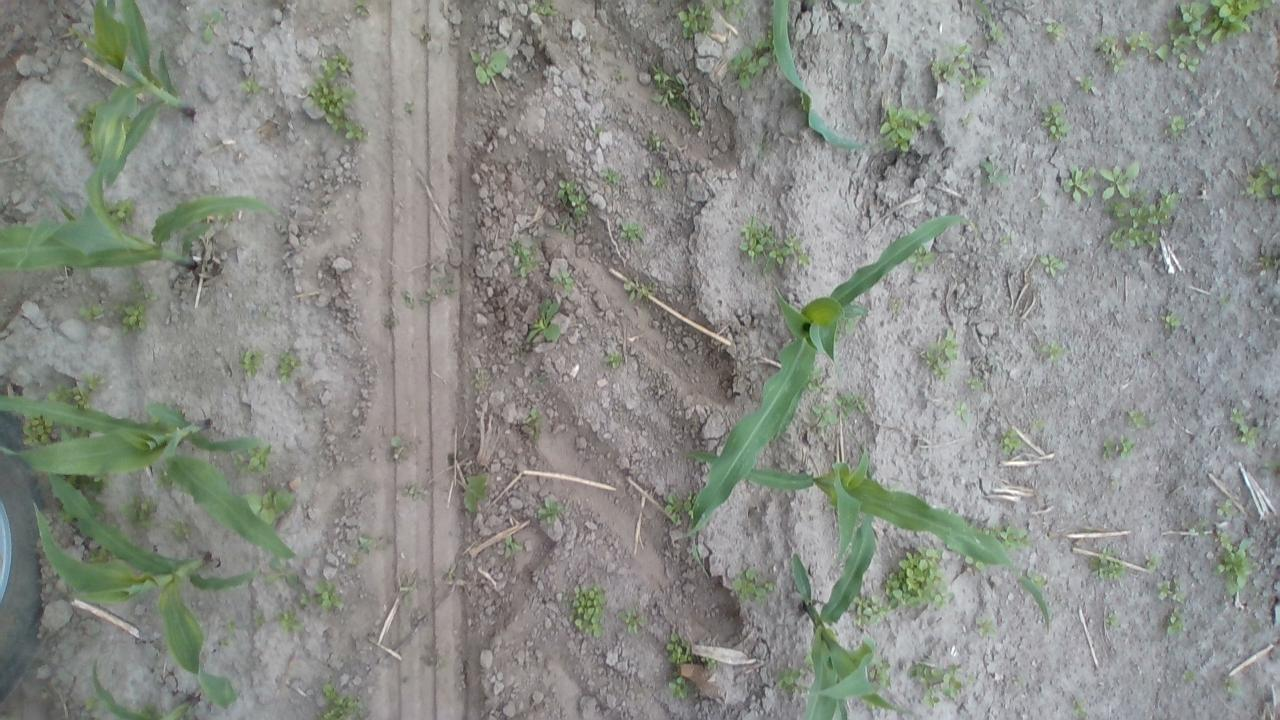Maize: (684, 215, 960, 532), (690, 447, 1052, 634), (31, 474, 282, 710), (0, 395, 298, 559), (77, 0, 192, 255), (0, 199, 281, 272), (792, 553, 908, 720), (769, 0, 865, 151), (91, 657, 200, 720)
Weeds: (1155, 0, 1268, 77), (304, 48, 366, 145), (1108, 188, 1178, 251), (740, 216, 813, 276), (879, 548, 946, 610), (932, 44, 987, 103), (1214, 523, 1258, 592), (880, 102, 936, 153), (726, 34, 774, 90), (910, 662, 964, 709), (1156, 577, 1192, 641), (916, 332, 964, 379), (554, 179, 592, 235), (570, 584, 608, 639), (311, 686, 371, 720), (246, 488, 297, 526), (48, 376, 108, 408), (1090, 540, 1132, 582), (122, 494, 166, 534), (469, 45, 509, 88), (731, 568, 775, 605), (989, 516, 1034, 550), (528, 298, 560, 344), (676, 2, 716, 38), (1228, 408, 1261, 450), (1064, 160, 1097, 202), (1246, 163, 1280, 202), (652, 63, 682, 106), (1096, 30, 1124, 76), (852, 594, 891, 626), (460, 474, 490, 514), (1102, 166, 1138, 199), (18, 417, 62, 442), (774, 664, 804, 700), (663, 490, 693, 526), (246, 448, 282, 477), (1044, 102, 1070, 142), (240, 343, 267, 379), (514, 241, 540, 277), (313, 573, 341, 606), (1100, 435, 1136, 460), (622, 278, 656, 304), (664, 630, 690, 661), (278, 607, 306, 635), (120, 304, 148, 332), (869, 660, 895, 690), (274, 350, 300, 380), (617, 604, 643, 634), (110, 200, 137, 228), (537, 496, 563, 524), (354, 535, 377, 566), (983, 160, 1009, 187), (809, 403, 837, 428), (1040, 252, 1066, 278), (716, 0, 748, 21), (202, 10, 224, 40), (1001, 428, 1026, 454), (619, 217, 644, 242), (389, 437, 412, 464), (1126, 408, 1149, 434), (1126, 30, 1152, 52), (1164, 114, 1186, 140), (910, 248, 931, 274), (680, 102, 701, 128), (836, 393, 868, 410), (1256, 246, 1280, 268), (552, 268, 572, 294), (973, 614, 997, 635), (809, 368, 830, 392), (81, 300, 106, 320), (1214, 499, 1240, 517), (1079, 72, 1099, 95), (648, 129, 667, 153), (531, 0, 557, 17), (504, 534, 524, 556), (673, 675, 689, 702), (1068, 694, 1089, 714), (174, 519, 194, 539), (601, 165, 622, 184), (1046, 20, 1064, 42), (981, 24, 1001, 43), (130, 276, 150, 295), (352, 0, 372, 19), (137, 702, 158, 720), (886, 298, 909, 314), (644, 169, 663, 188), (245, 74, 263, 94), (1042, 343, 1064, 359), (1162, 310, 1181, 328), (1221, 674, 1240, 692), (971, 0, 990, 17), (1183, 665, 1199, 684), (1184, 520, 1208, 532), (968, 376, 988, 390), (606, 353, 622, 370), (254, 612, 270, 628), (1268, 457, 1280, 477), (699, 658, 720, 668), (401, 484, 418, 496), (1144, 555, 1162, 566), (401, 291, 416, 304), (1032, 417, 1046, 430), (1106, 610, 1118, 625), (957, 402, 967, 419), (1030, 575, 1046, 585), (81, 700, 97, 710), (222, 618, 238, 628), (1000, 232, 1014, 243), (424, 290, 436, 301), (405, 102, 415, 114), (528, 410, 538, 421)
